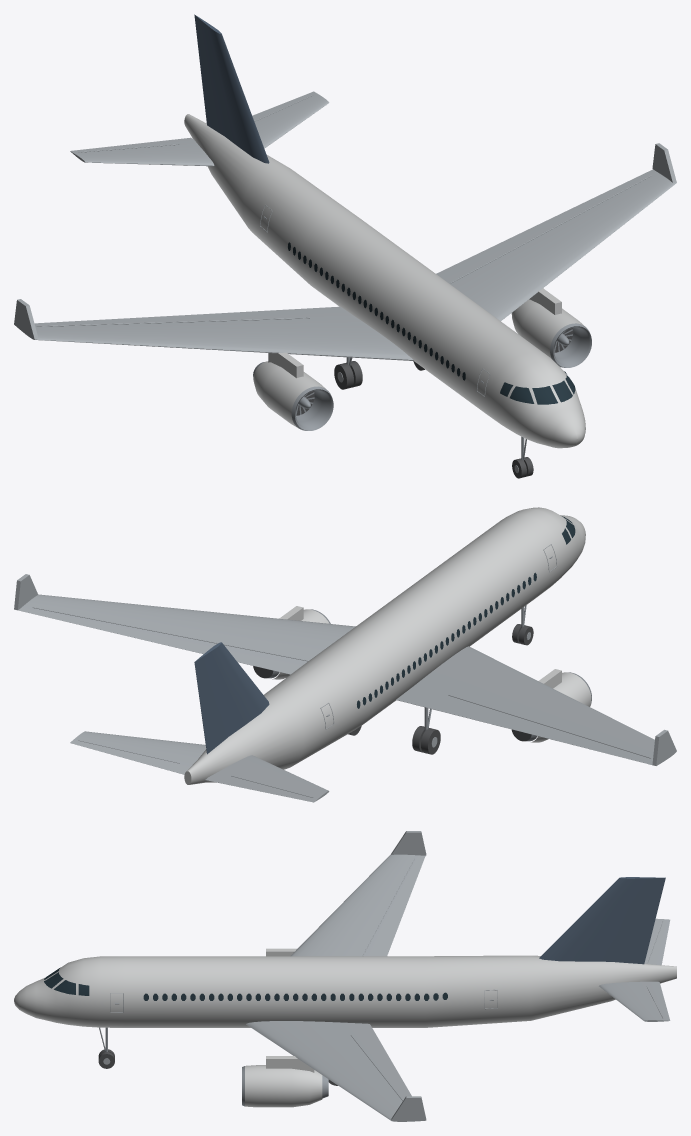
Rendered from aircraft-narrowbody.glb.
The picture shows the model from 3 angles, top to bottom: view 1: azimuth 30°, elevation 25°; view 2: azimuth 150°, elevation 25°; view 3: azimuth 270°, elevation 25°; orthographic projection. The views are drawn at different scales.
Visible parts, largest first — view 1: aircraft-narrowbody, gear; view 2: aircraft-narrowbody, gear; view 3: aircraft-narrowbody.
Boxes of the visible parts, bbox=[...] form: aircraft-narrowbody: bbox=[14, 14, 676, 448]; gear: bbox=[334, 357, 533, 478]; aircraft-narrowbody: bbox=[14, 507, 676, 802]; gear: bbox=[348, 605, 533, 754]; aircraft-narrowbody: bbox=[14, 831, 676, 1121].
Size of the model in its own units: 35.8 by 11.8 by 37.6.
